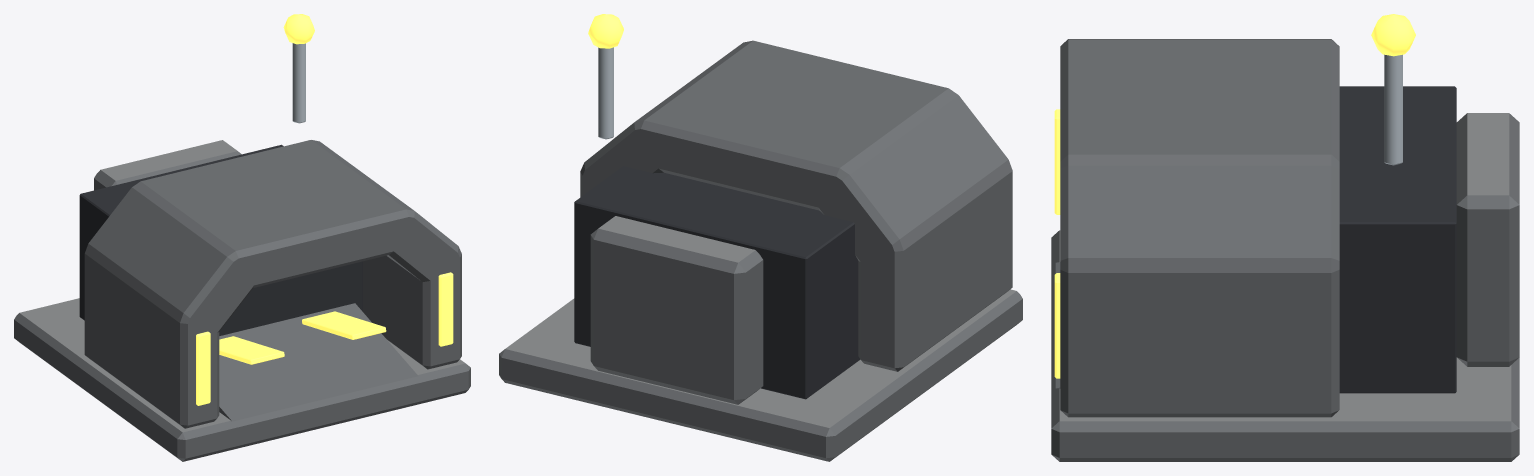
File: R4X_GroundDroneDeployer_LOD1.glb
3 renders of one model, left to right at view 1: azimuth 30°, elevation 25°; view 2: azimuth 150°, elevation 25°; view 3: azimuth 270°, elevation 25°, orthographic. The views are drawn at different scales.
Visible parts, largest first — view 1: R4X_GroundDroneDeployer_LOD1; view 2: R4X_GroundDroneDeployer_LOD1; view 3: R4X_GroundDroneDeployer_LOD1.
Part boxes in pixels (x1=…): R4X_GroundDroneDeployer_LOD1: x1=14, y1=14, x2=470, y2=461; R4X_GroundDroneDeployer_LOD1: x1=499, y1=14, x2=1022, y2=461; R4X_GroundDroneDeployer_LOD1: x1=1051, y1=14, x2=1519, y2=461.
Size of the model in its own units: 0.52 by 0.51 by 0.52.
